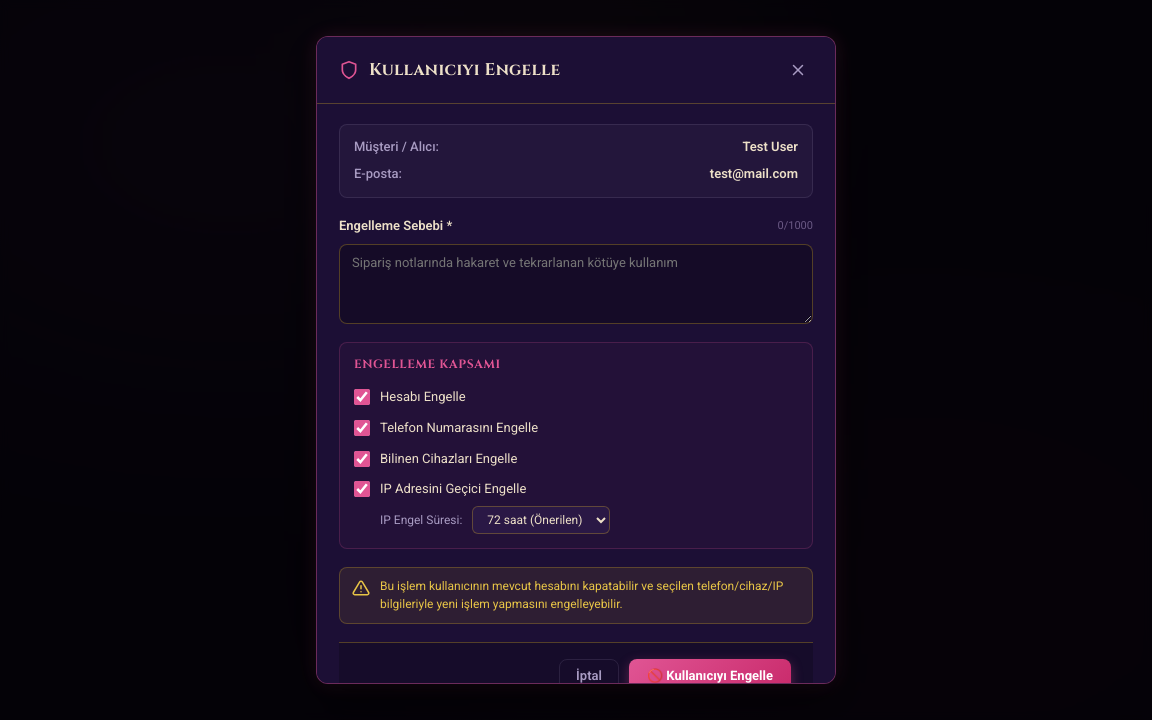
Test: Muhristan Anti-Abuse & Ban Frontend Integration Test Suite › E, F, G, H, I, K: AbuseBanModal Controls & Flows › F: Reason boşken ban POST gönderilmez
The image size is (1152, 720).
Click the button "🚫 Kullanıcıyı Engelle".
click(710, 676)  # box [629,659,791,692]
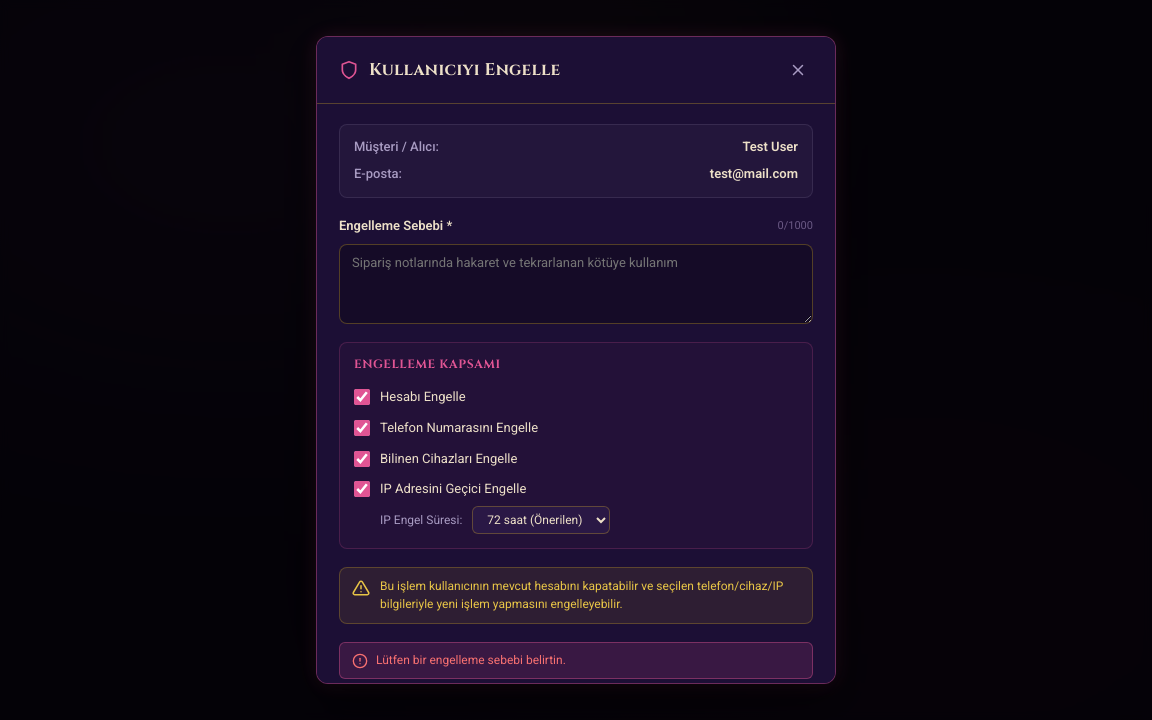
expect the text "Lütfen bir engelleme sebebi belirtin." is shown: met, box [376,651,566,670]
